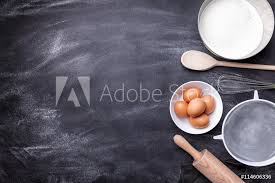Eggs: (185, 97, 210, 119), (177, 102, 187, 116)
